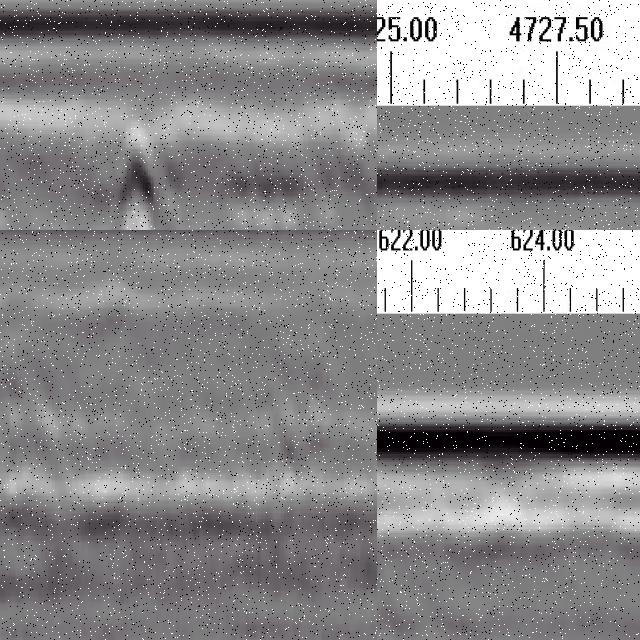crack: (112, 107, 162, 231), (378, 512, 397, 640)
